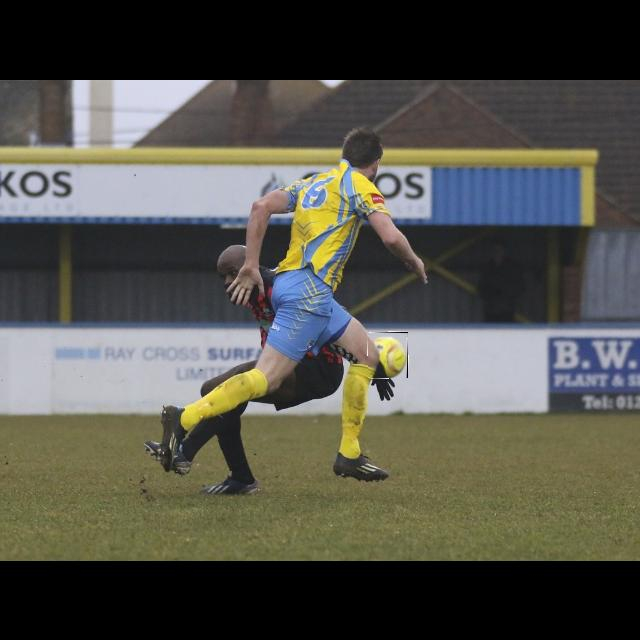Football: (368, 332, 408, 378)
